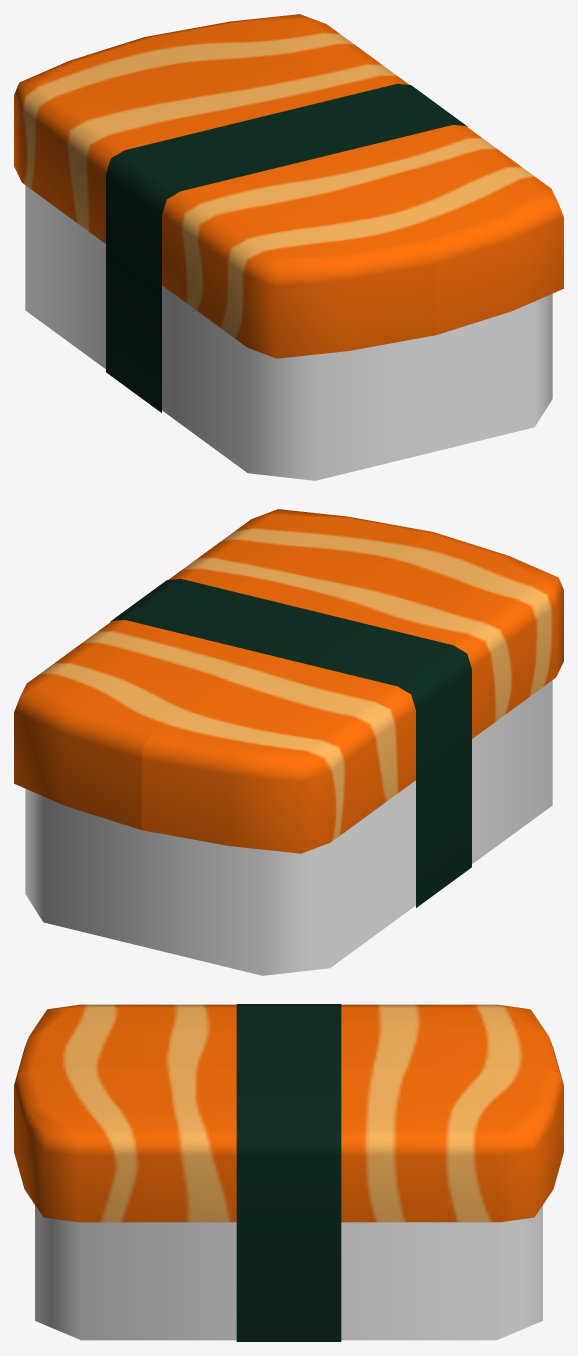
File: sushi.FBX
3 renders of one model, top to bottom at view 1: azimuth 30°, elevation 25°; view 2: azimuth 150°, elevation 25°; view 3: azimuth 270°, elevation 25°, orthographic. The views are drawn at different scales.
Parts seen in each view (by area): view 1: Box1181; view 2: Box1181; view 3: Box1181.
Boxes of the visible parts, box(x1,y1,x2,y2) form: Box1181: box(14, 14, 563, 480); Box1181: box(14, 509, 563, 975); Box1181: box(14, 1004, 563, 1341).
Bounding box in the file's own units: 0.9424 × 0.6323 × 1.55.
